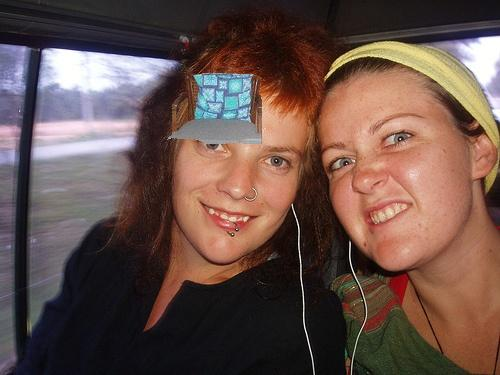tampered: (168, 74, 262, 144)
